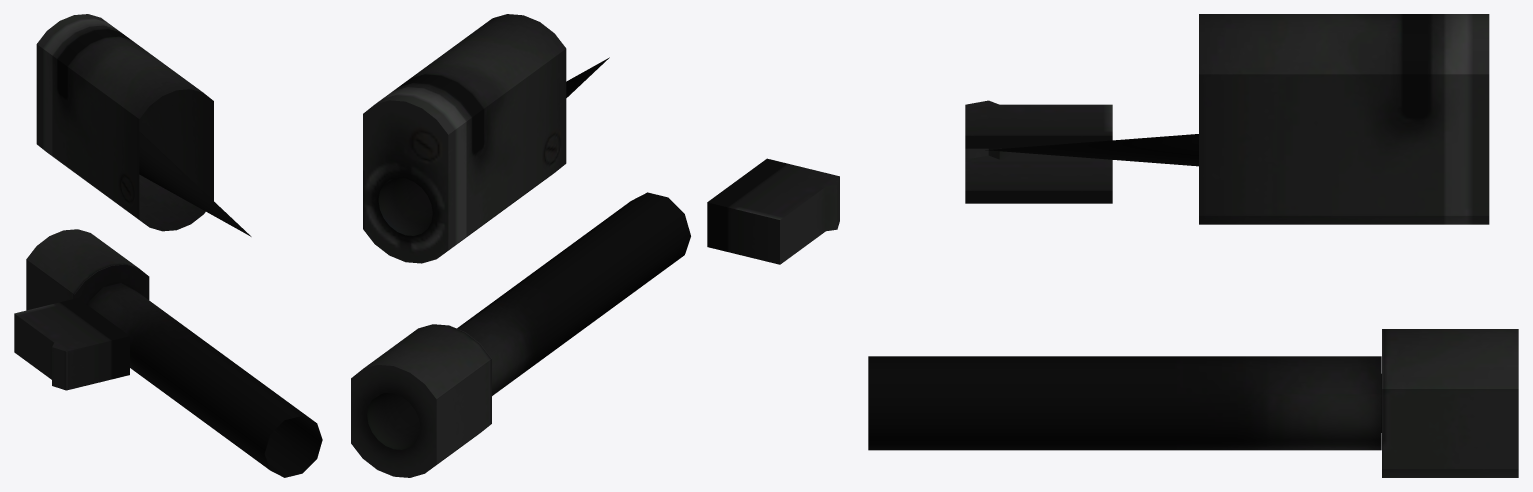
Rendered from portal_turret_guns_left.obj.
The picture shows the model from 3 angles, left to right: view 1: azimuth 30°, elevation 25°; view 2: azimuth 150°, elevation 25°; view 3: azimuth 270°, elevation 25°; orthographic projection. The views are drawn at different scales.
Visible parts, largest first — view 1: portal_turret_guns_left; view 2: portal_turret_guns_left; view 3: portal_turret_guns_left.
Part boxes in pixels (bbox=[...]): portal_turret_guns_left: bbox=[14, 14, 322, 477]; portal_turret_guns_left: bbox=[351, 14, 839, 477]; portal_turret_guns_left: bbox=[868, 14, 1518, 477].
Size of the model in its own units: 0.1423 by 0.1838 by 0.2401.
1 material, 1 textured.
